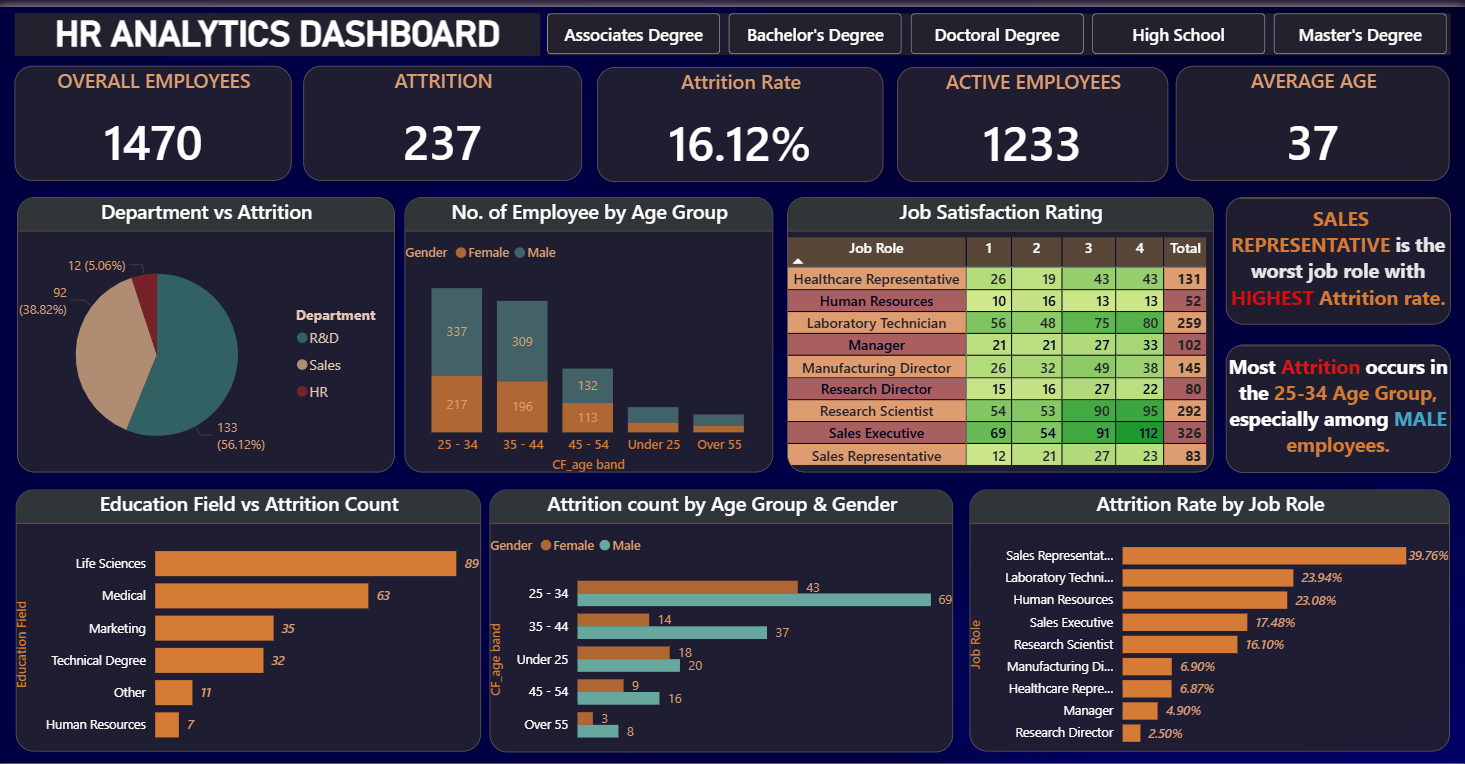

Layout of this report page (visuals, bound fields, positions):
{"tool":"powerbi","page":{"name":"HR ANALYTICS DASHBOARD","canvas":[1400,720],"ordinal":0},"visuals":[{"type":"cardVisual","title":"OVERALL EMPLOYEES","fields":{"Data":["HR data.Total Employees Display"]},"box":[17.1,55.7,264,109.9],"z":0},{"type":"cardVisual","title":"ATTRITION","fields":{"Data":["Sum(HR data.Attrition count)"]},"box":[291.1,55.7,265.4,109.9],"z":1000},{"type":"cardVisual","title":"Attrition Rate","fields":{"Data":["HR data.Attrition Rate"]},"box":[570.8,57.1,272.6,109.9],"z":2000},{"type":"cardVisual","title":"ACTIVE EMPLOYEES","fields":{"Data":["HR data.Active Employees Display"]},"box":[857.7,57.1,258.3,109.9],"z":3000},{"type":"cardVisual","title":"AVERAGE AGE","fields":{"Data":["Avg(HR data.Age)"]},"box":[1123.1,55.7,261.2,109.9],"z":4000},{"type":"pieChart","title":"Department vs Attrition","fields":{"Category":["HR data.Department"],"Y":["Sum(HR data.Attrition count)"]},"box":[18.6,181.2,359.6,262.6],"z":5000},{"type":"columnChart","title":"No. of Employee by Age Group","fields":{"Category":["HR data.CF_age band"],"Y":["Sum(HR data.Employee Count)"],"Series":["HR data.Gender"]},"box":[388.2,181.2,351.1,262.6],"z":6000},{"type":"pivotTable","title":"Job Satisfaction Rating","fields":{"Columns":["HR data.Job Satisfaction"],"Rows":["HR data.Job Role"],"Values":["Sum(HR data.Employee Count)"]},"box":[752.1,181.2,406.7,262.6],"z":7000},{"type":"barChart","title":"Education Field vs Attrition Count","fields":{"Category":["HR data.Education Field"],"Y":["Sum(HR data.Attrition count)"]},"box":[17.3,459.7,443,249.5],"z":8000},{"type":"textbox","title":"HR ANALYTICS DASHBOARD","box":[16.7,6,501.2,40.5],"z":9000},{"type":"advancedSlicerVisual","fields":{"Values":["HR data.Education"]},"box":[523.8,5.7,860.6,40],"z":10000},{"type":"clusteredBarChart","title":"Attrition count by Age Group & Gender","fields":{"Category":["HR data.CF_age band"],"Series":["HR data.Gender"],"Y":["Sum(HR data.Attrition count)"]},"box":[469,459.5,441.7,250],"z":11000},{"type":"clusteredBarChart","title":"Attrition Rate by Job Role","fields":{"Y":["HR data.Attrition Rate"],"Category":["HR data.Job Role"]},"box":[926.4,459.7,457.4,249.5],"z":12000},{"type":"textbox","box":[1170.2,181,214.3,121.4],"z":13000},{"type":"textbox","box":[1170.2,321.4,214.3,122.6],"z":14000}]}

Visuals, with their boxes in screenshot pixels (x1, y1, x2, y2), scaled from the page's 1400x720 canvas onto the 1465x764 screenshot:
"OVERALL EMPLOYEES" cardVisual: [left=18, top=59, right=294, bottom=176]
"ATTRITION" cardVisual: [left=305, top=59, right=582, bottom=176]
"Attrition Rate" cardVisual: [left=597, top=61, right=883, bottom=177]
"ACTIVE EMPLOYEES" cardVisual: [left=898, top=61, right=1168, bottom=177]
"AVERAGE AGE" cardVisual: [left=1175, top=59, right=1449, bottom=176]
"Department vs Attrition" pieChart: [left=19, top=192, right=396, bottom=471]
"No. of Employee by Age Group" columnChart: [left=406, top=192, right=774, bottom=471]
"Job Satisfaction Rating" pivotTable: [left=787, top=192, right=1213, bottom=471]
"Education Field vs Attrition Count" barChart: [left=18, top=488, right=482, bottom=753]
"HR ANALYTICS DASHBOARD" textbox: [left=17, top=6, right=542, bottom=49]
advancedSlicerVisual - HR data.Education: [left=548, top=6, right=1449, bottom=48]
"Attrition count by Age Group & Gender" clusteredBarChart: [left=491, top=488, right=953, bottom=753]
"Attrition Rate by Job Role" clusteredBarChart: [left=969, top=488, right=1448, bottom=753]
textbox: [left=1225, top=192, right=1449, bottom=321]
textbox: [left=1225, top=341, right=1449, bottom=471]
